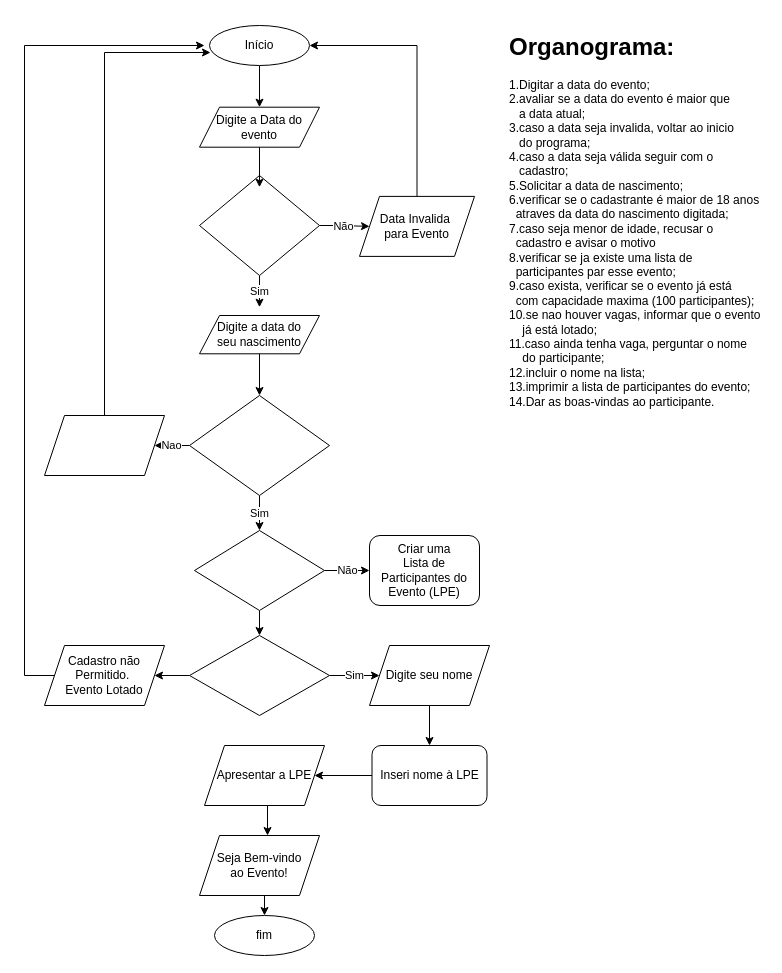
Some shapes in this 782 by 973 pixel diagram are drawn without their labels. Here are the shapes that lost their labels. From the top down, the centre of each, then its label:
At (259,225): "Data digitada > Data atual".
At (104,445): "Cadastro não permitido. idade inválida".
At (259,445): "Data Atual - Data do Nascimento >18".
At (259,570): "existe uma lista do Evento?".
At (259,675): "A LPE < 100 participantes".
